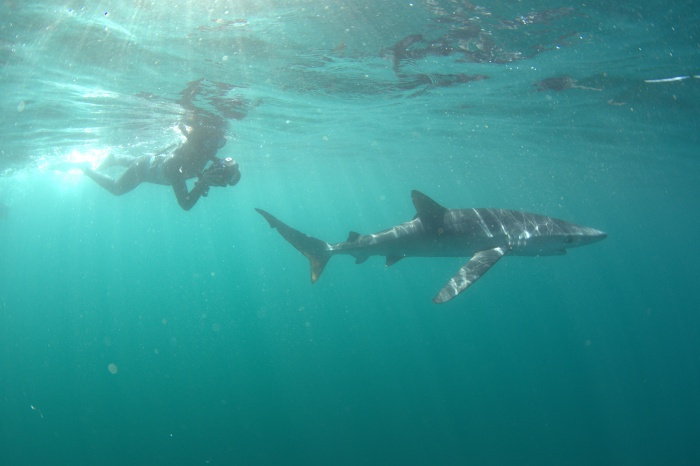Azul: (250, 191, 613, 312)
